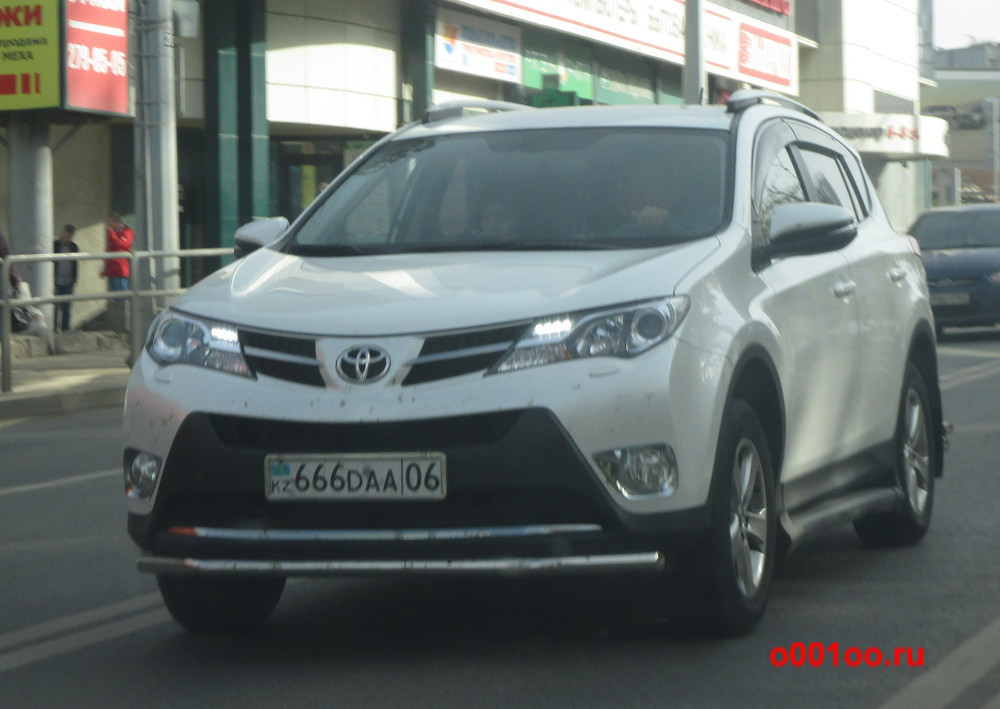license_plate: (265, 457, 446, 496)
